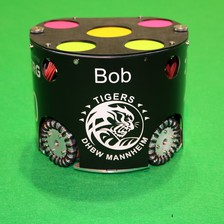robot: (24, 11, 195, 180)
